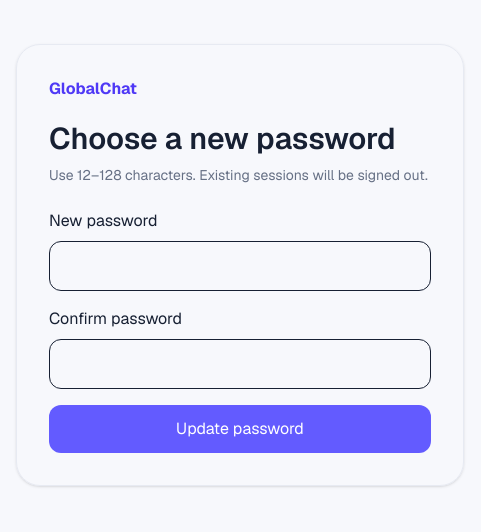
it: shows a safe invalid-link error
Type "A valid new password!" into the password field labelled "New password".
click(240, 266); type("A valid new password!")  # box [49, 241, 431, 291]
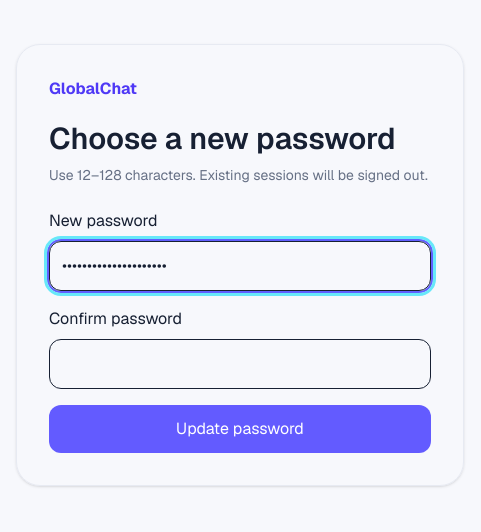
Type "A valid new password!" into the password field labelled "Confirm password".
click(240, 364); type("A valid new password!")  # box [49, 339, 431, 389]
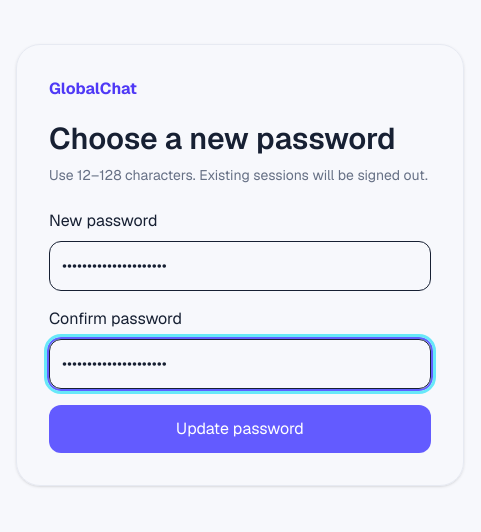
Click the button "Update password".
click(240, 429)  # box [49, 405, 431, 453]
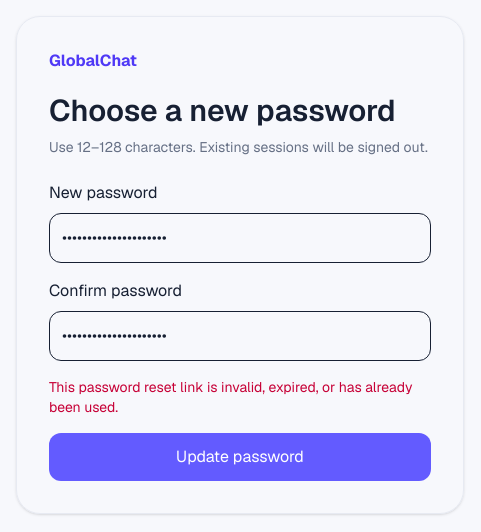
Check: the message reads "This password reset link is invalid, expired, or has already been used.", box [49, 378, 412, 416]
